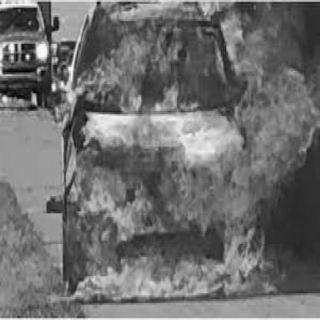Fire: (41, 4, 313, 300)
